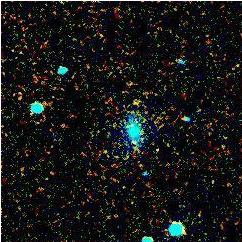star: (118, 128, 148, 158)
